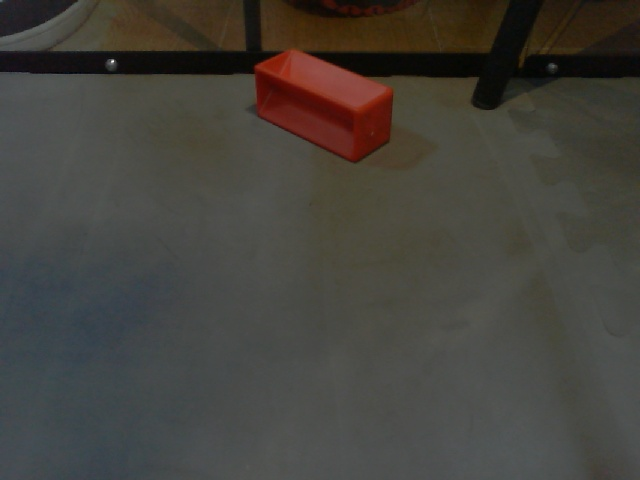RedSample: (252, 45, 395, 164)
